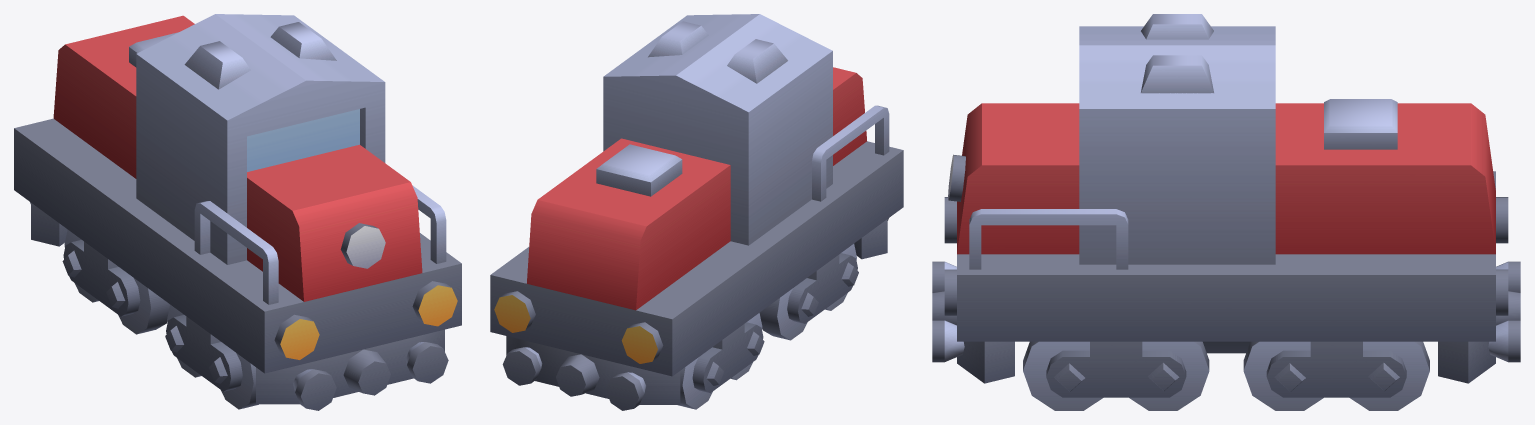
Rendered from train-diesel-b.glb.
3 views of the same model, side by side, from view 1: azimuth 30°, elevation 25°; view 2: azimuth 150°, elevation 25°; view 3: azimuth 270°, elevation 25° (orthographic). The views are drawn at different scales.
Parts seen in each view (by area): view 1: train-diesel-b; view 2: train-diesel-b; view 3: train-diesel-b.
Boxes of the visible parts, x1,y1,x2,y2 form: train-diesel-b: (14, 14, 461, 410); train-diesel-b: (490, 14, 903, 410); train-diesel-b: (932, 14, 1520, 410).
Size of the model in its own units: 1 by 1.48 by 2.4.
1 material, 1 textured.
